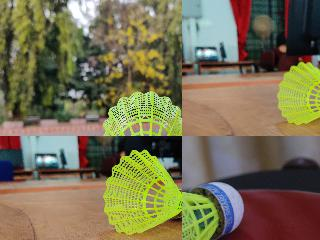shuttlecock: (102, 149, 181, 236), (182, 174, 244, 239), (103, 90, 181, 135), (276, 60, 319, 125)
